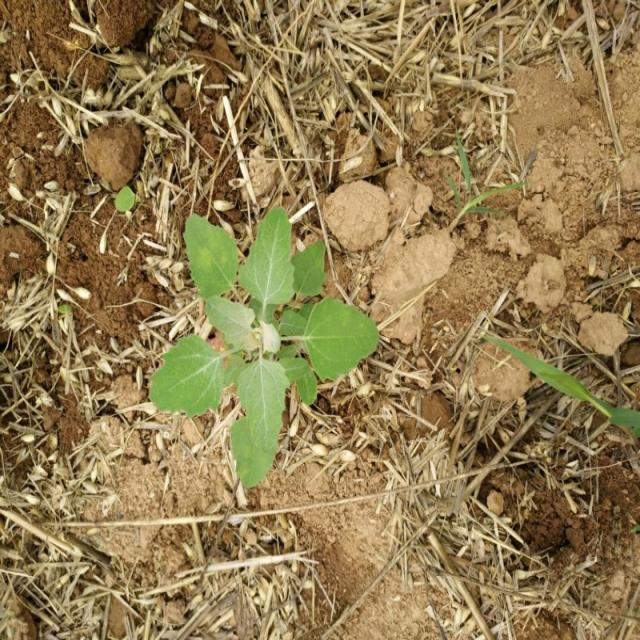ca: (152, 211, 378, 492)
